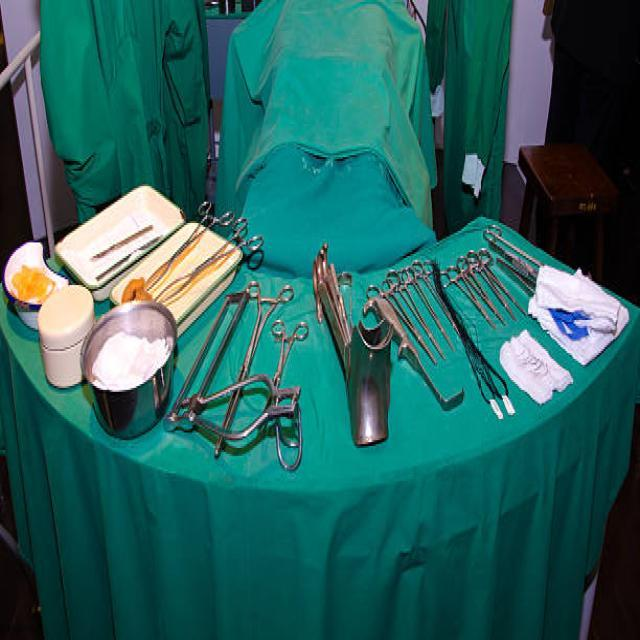tools_table: (2, 170, 640, 588)
